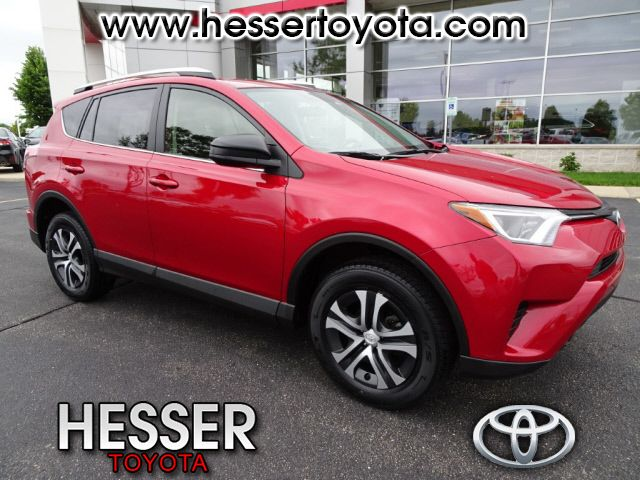Toyota RAV-4: (22, 64, 630, 417)
